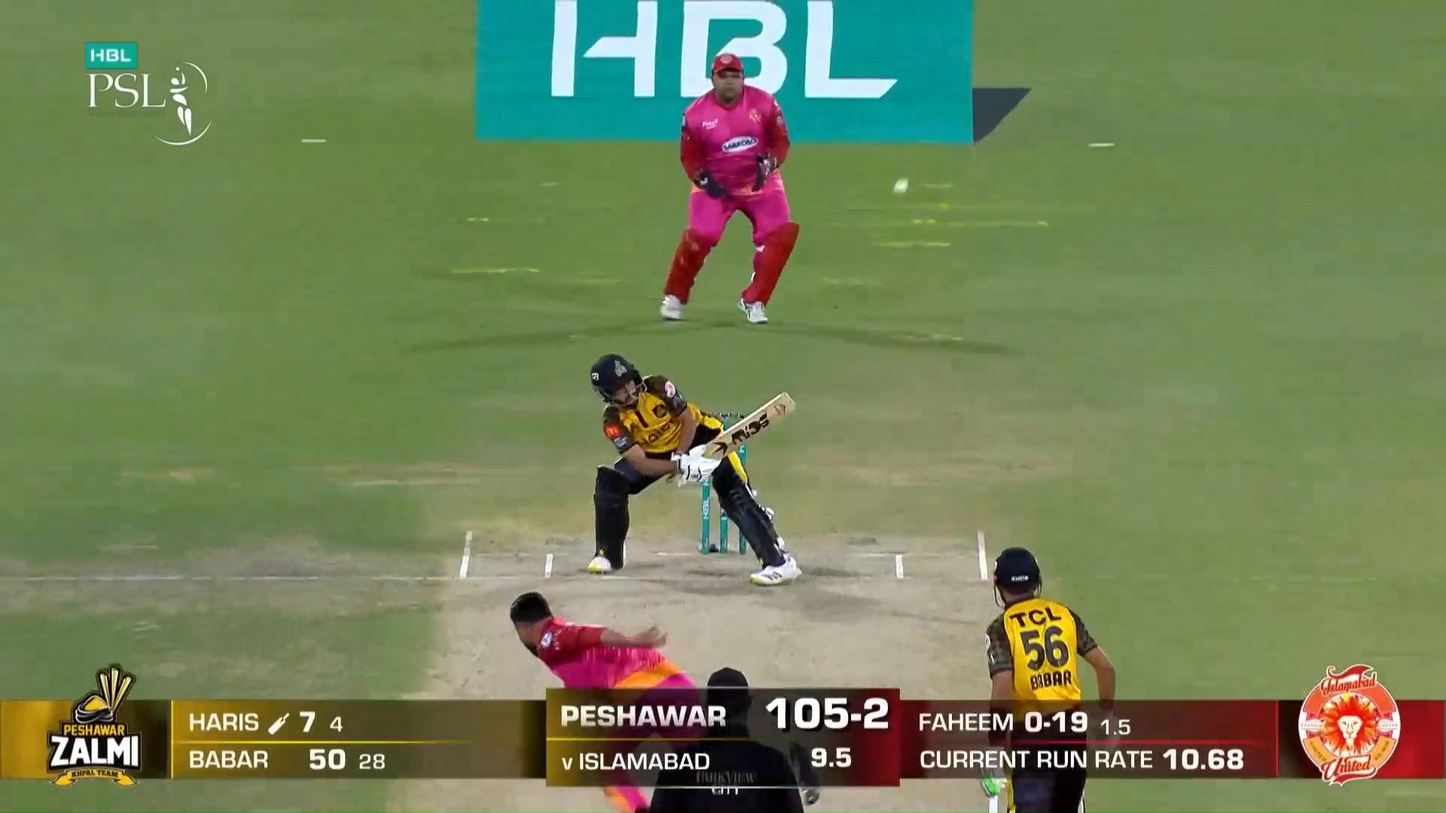batsman: (587, 352, 803, 586)
